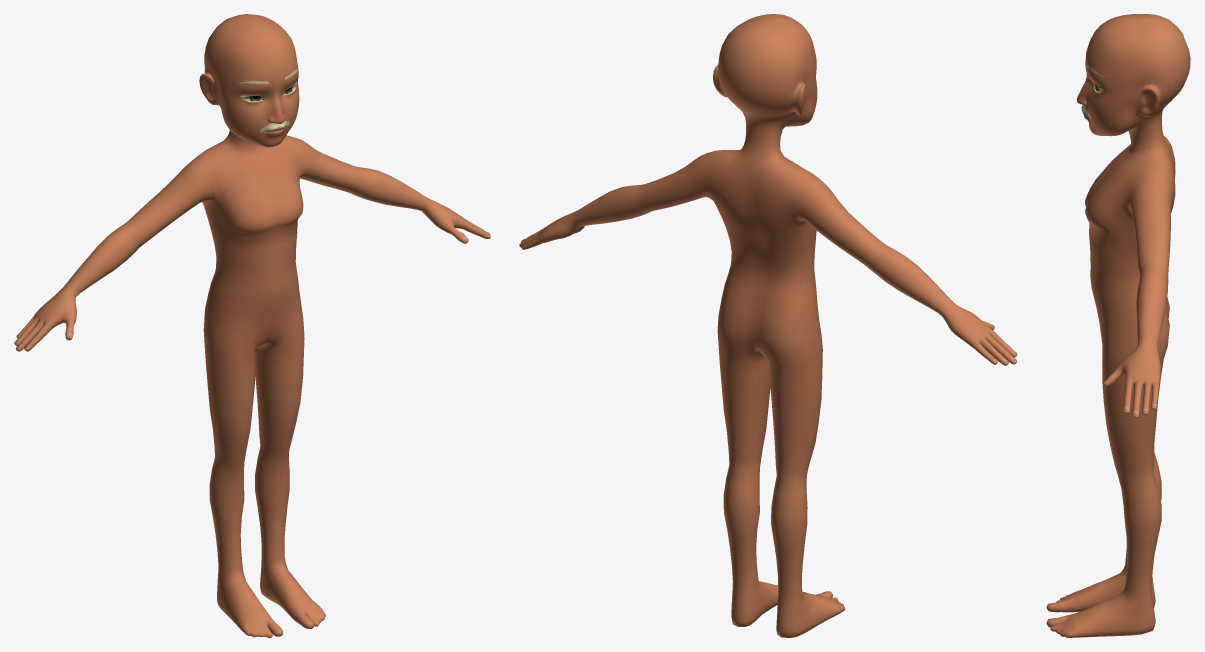
File: frame_0051.glb
3 renders of one model, left to right at view 1: azimuth 30°, elevation 25°; view 2: azimuth 150°, elevation 25°; view 3: azimuth 270°, elevation 25°, orthographic. The views are drawn at different scales.
Parts seen in each view (by area): view 1: frame_0051_head_geo; view 2: frame_0051_head_geo; view 3: frame_0051_head_geo.
Boxes of the visible parts, x1,y1,x2,y2 form: frame_0051_head_geo: [14, 14, 490, 637]; frame_0051_head_geo: [519, 14, 1017, 637]; frame_0051_head_geo: [1046, 14, 1190, 637].
Bounding box in the file's own units: 1.28 × 1.5 × 0.3253.
3 materials, 3 textured.
